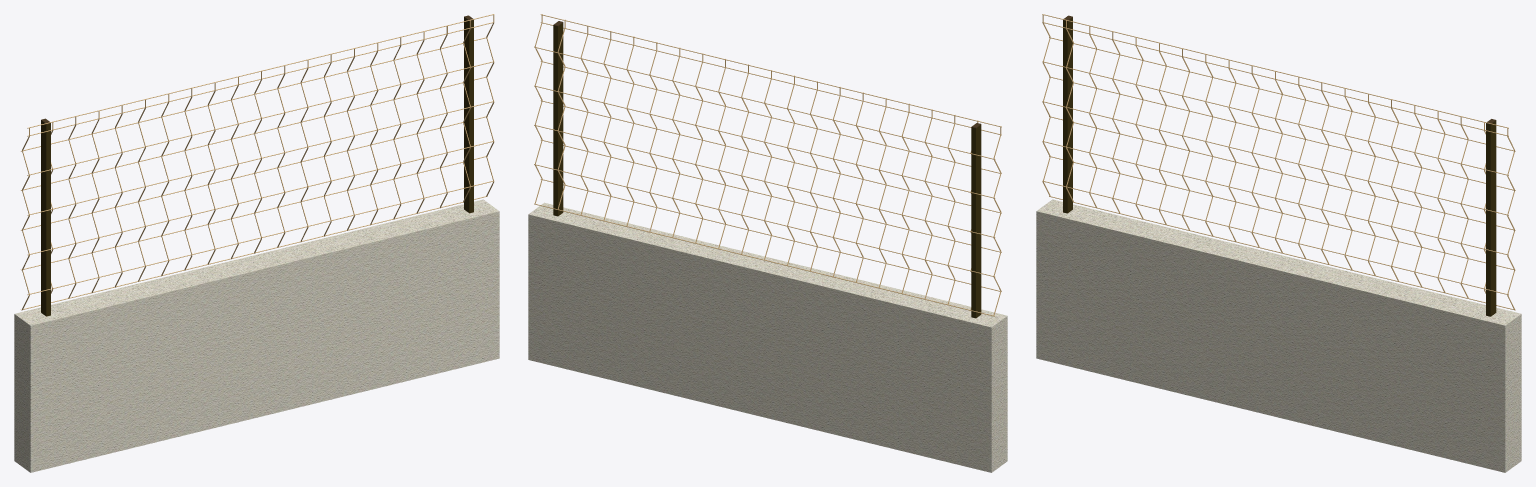
File: toremeshsingle_h800_softbeige.fbx
3 views of the same model, side by side, from view 1: azimuth 30°, elevation 25°; view 2: azimuth 150°, elevation 25°; view 3: azimuth 330°, elevation 25° (orthographic).
Parts seen in each view (by area): view 1: toremeshsingle_h800_yellow_cb; view 2: toremeshsingle_h800_yellow_cb; view 3: toremeshsingle_h800_yellow_cb.
Boxes of the visible parts, bbox=[...] form: toremeshsingle_h800_yellow_cb: bbox=[14, 14, 499, 472]; toremeshsingle_h800_yellow_cb: bbox=[528, 14, 1007, 472]; toremeshsingle_h800_yellow_cb: bbox=[1036, 14, 1521, 472].
Size of the model in its own units: 200 by 139 by 12.
Materials: 4 (3 with a texture image).
